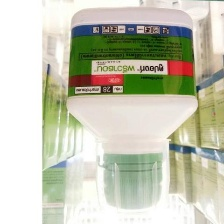insecticide: (63, 4, 200, 216)
